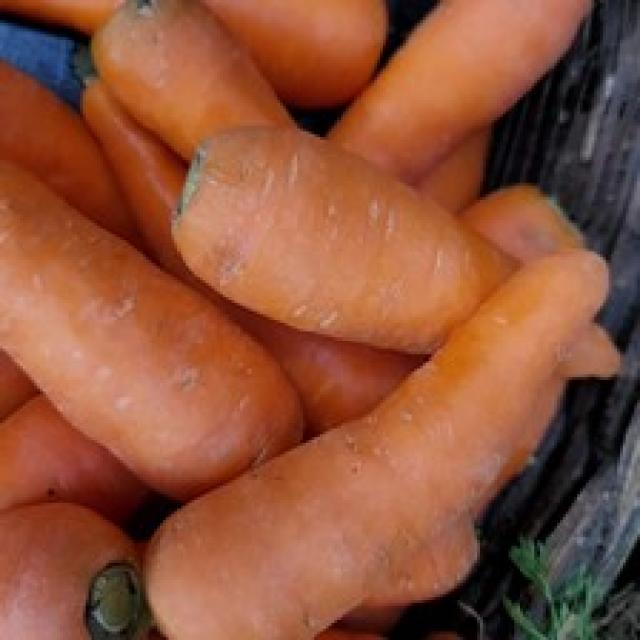Fresh_Carrot: (187, 121, 543, 347), (0, 149, 239, 475)
